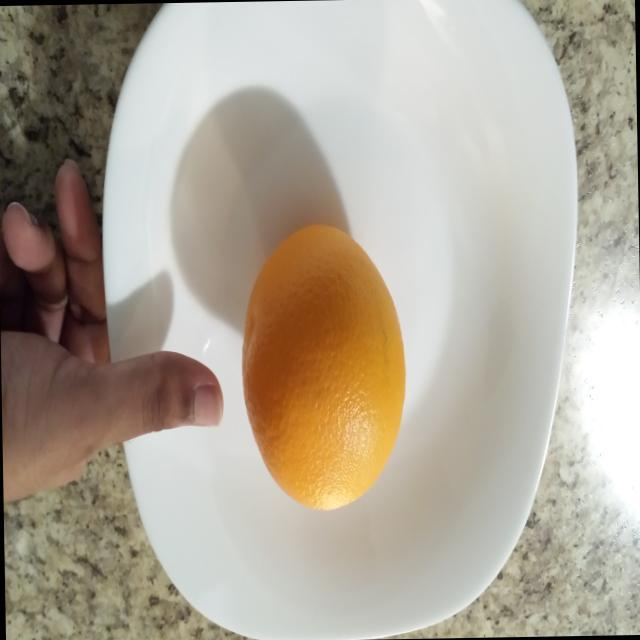Finger: (136, 338, 227, 444)
Orange: (231, 208, 441, 522)
